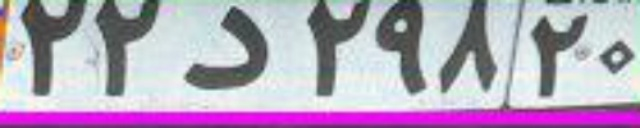0: (595, 38, 636, 74)
2: (302, 0, 371, 97), (15, 1, 85, 95), (94, 1, 161, 94), (530, 10, 587, 95)
8: (440, 0, 501, 93)
9: (372, 0, 429, 94)
dal: (183, 5, 270, 91)
